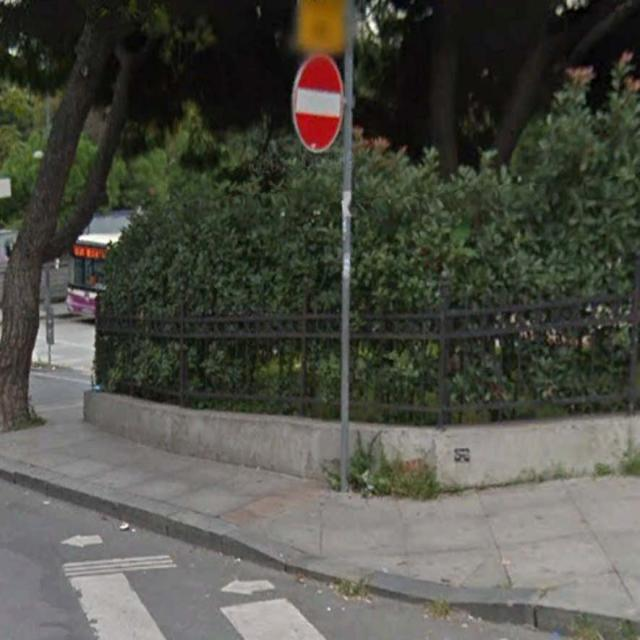girisyok: (292, 54, 344, 153)
